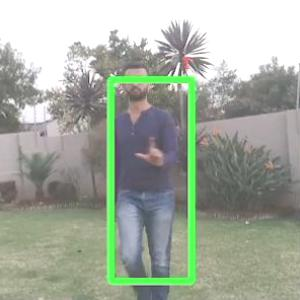land_hand: (134, 131, 170, 168)
